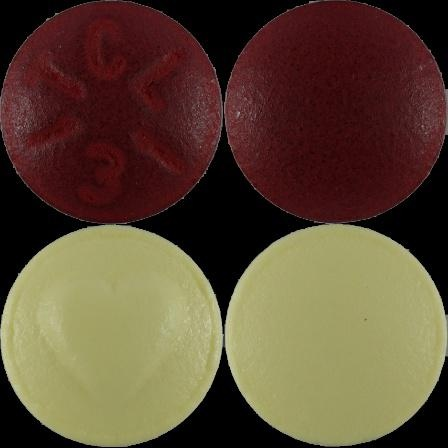0536-0355: (0, 0, 224, 224)
